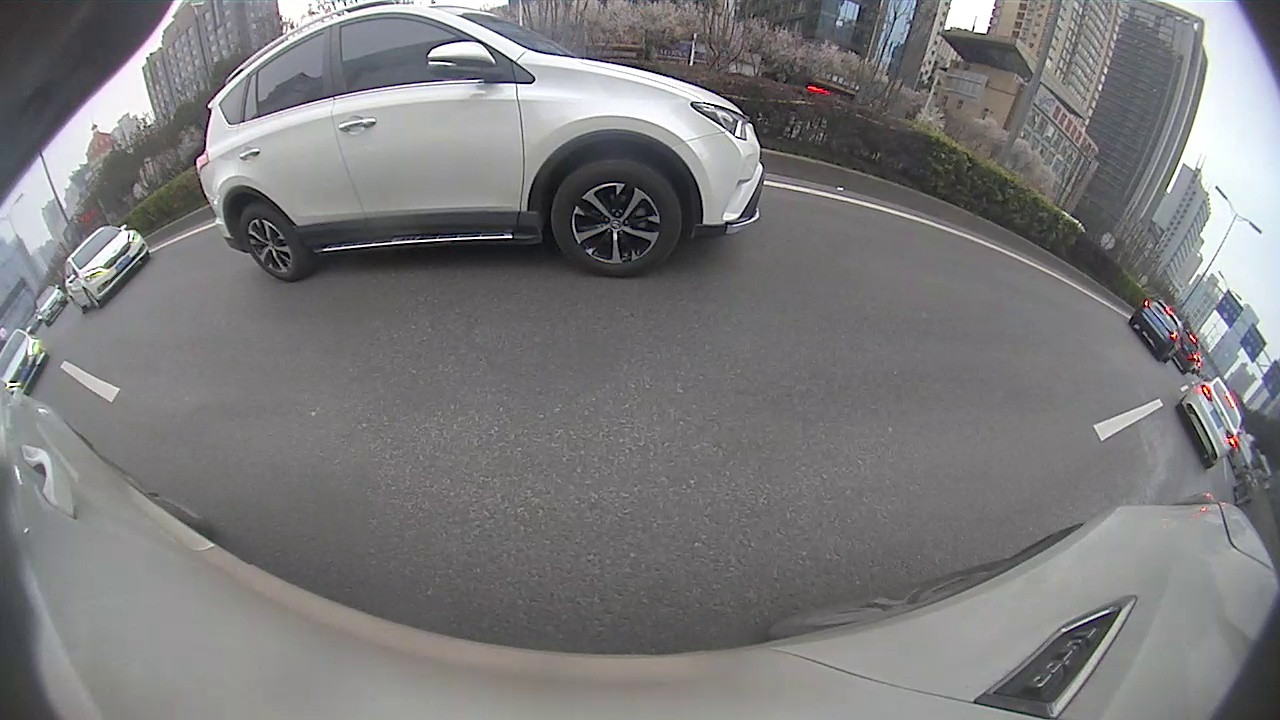car: (1, 343, 143, 512), (1209, 307, 1279, 385), (1094, 255, 1155, 301), (913, 195, 965, 222), (1013, 220, 1050, 254), (570, 160, 602, 185), (619, 159, 650, 184), (668, 161, 687, 176)
front: (1247, 359, 1266, 385)
rear: (1209, 328, 1227, 350)
